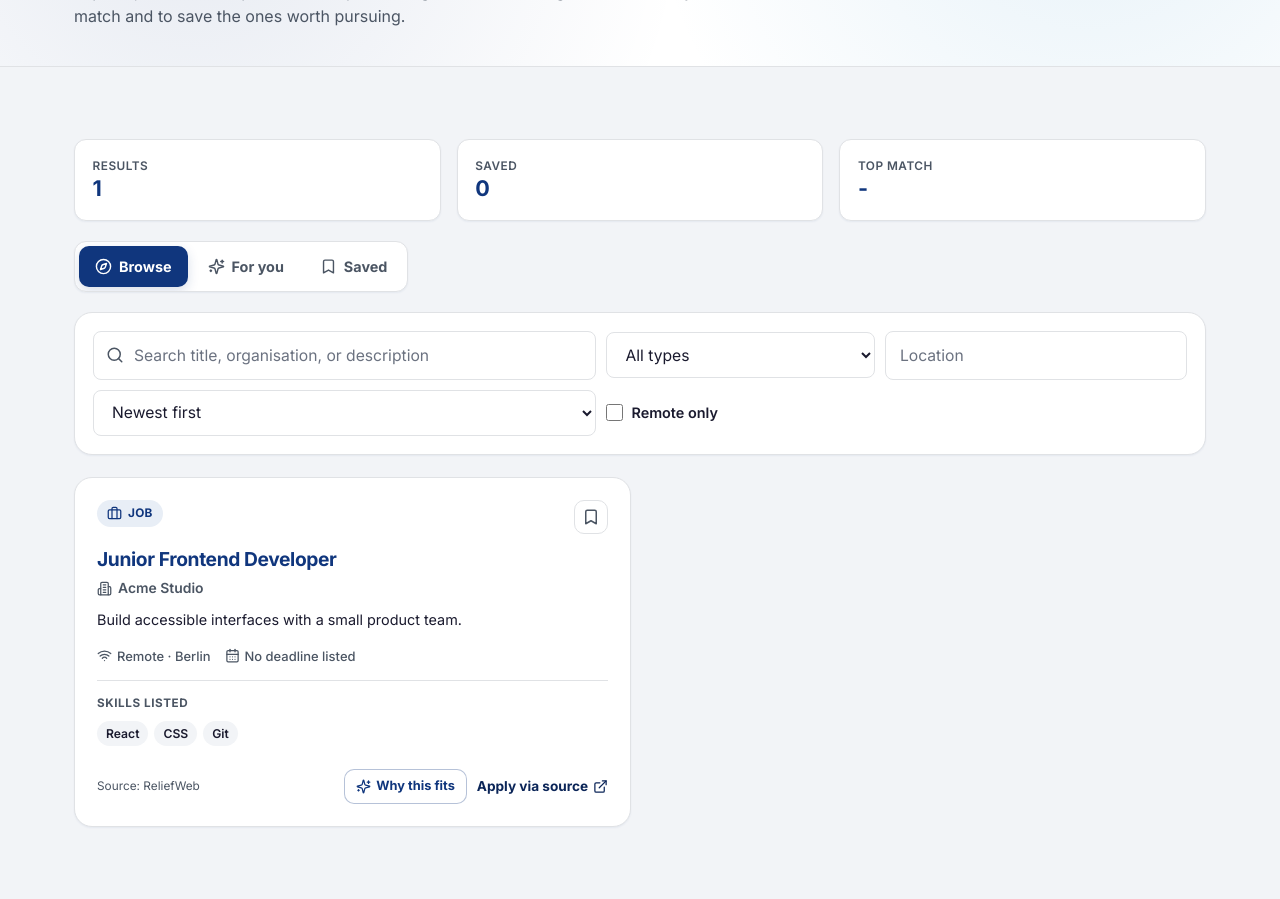
Test: shows an AI insight for a logged-in user
(page scrolled)
Click the button "Why this fits".
click(406, 787)  # box [344, 769, 467, 804]
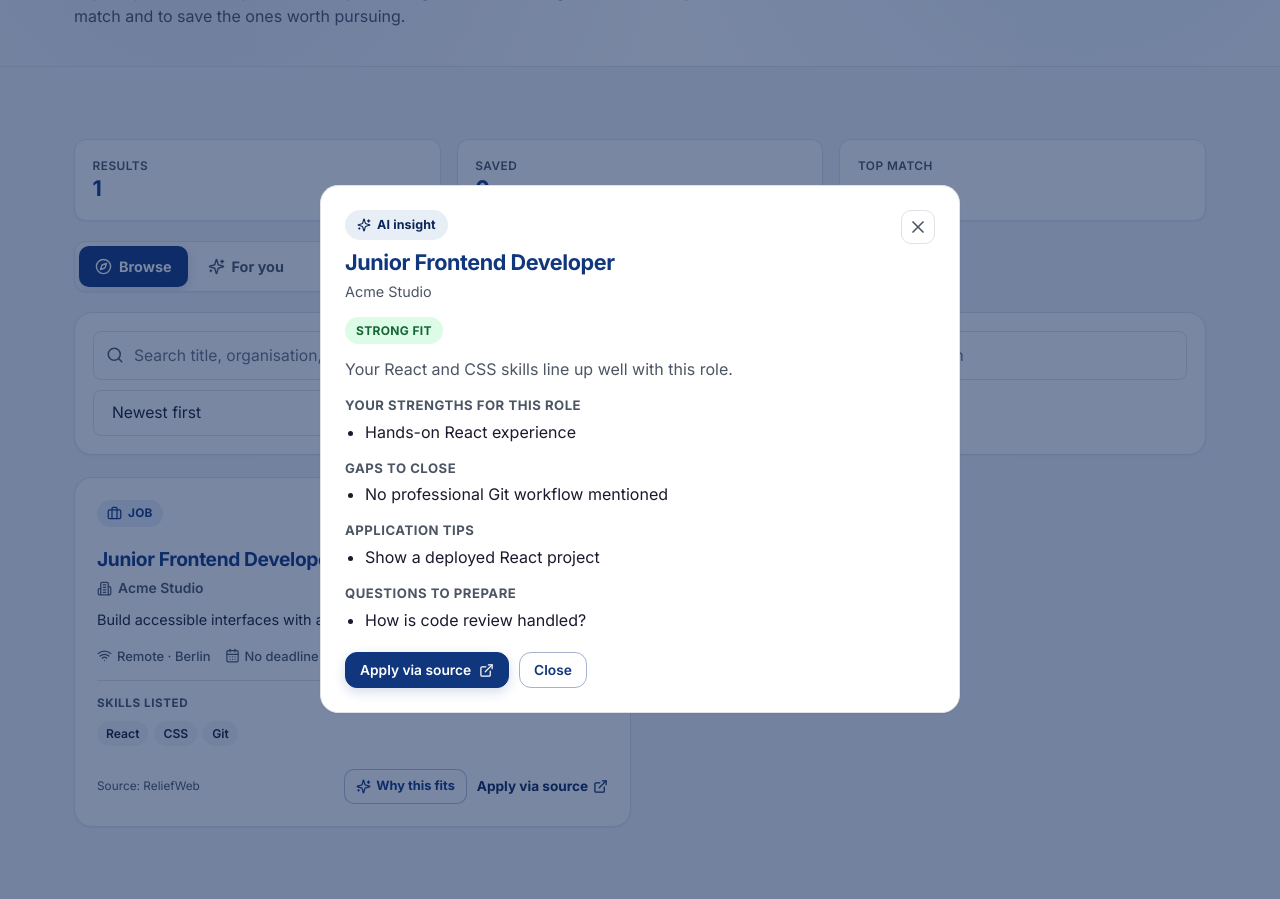
Now the text "strong fit" is shown, box [345, 317, 443, 344]
Now the text "Your React and CSS skills line up well with this role." is shown, box [345, 359, 733, 379]
Now the list item "Hands-on React experience" is shown, box [365, 422, 576, 442]
